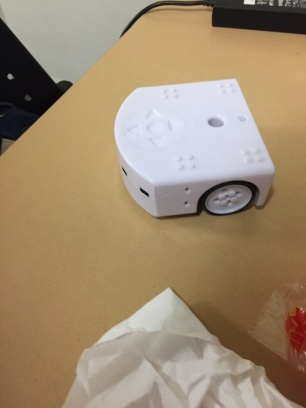thymio: (109, 73, 277, 233)
